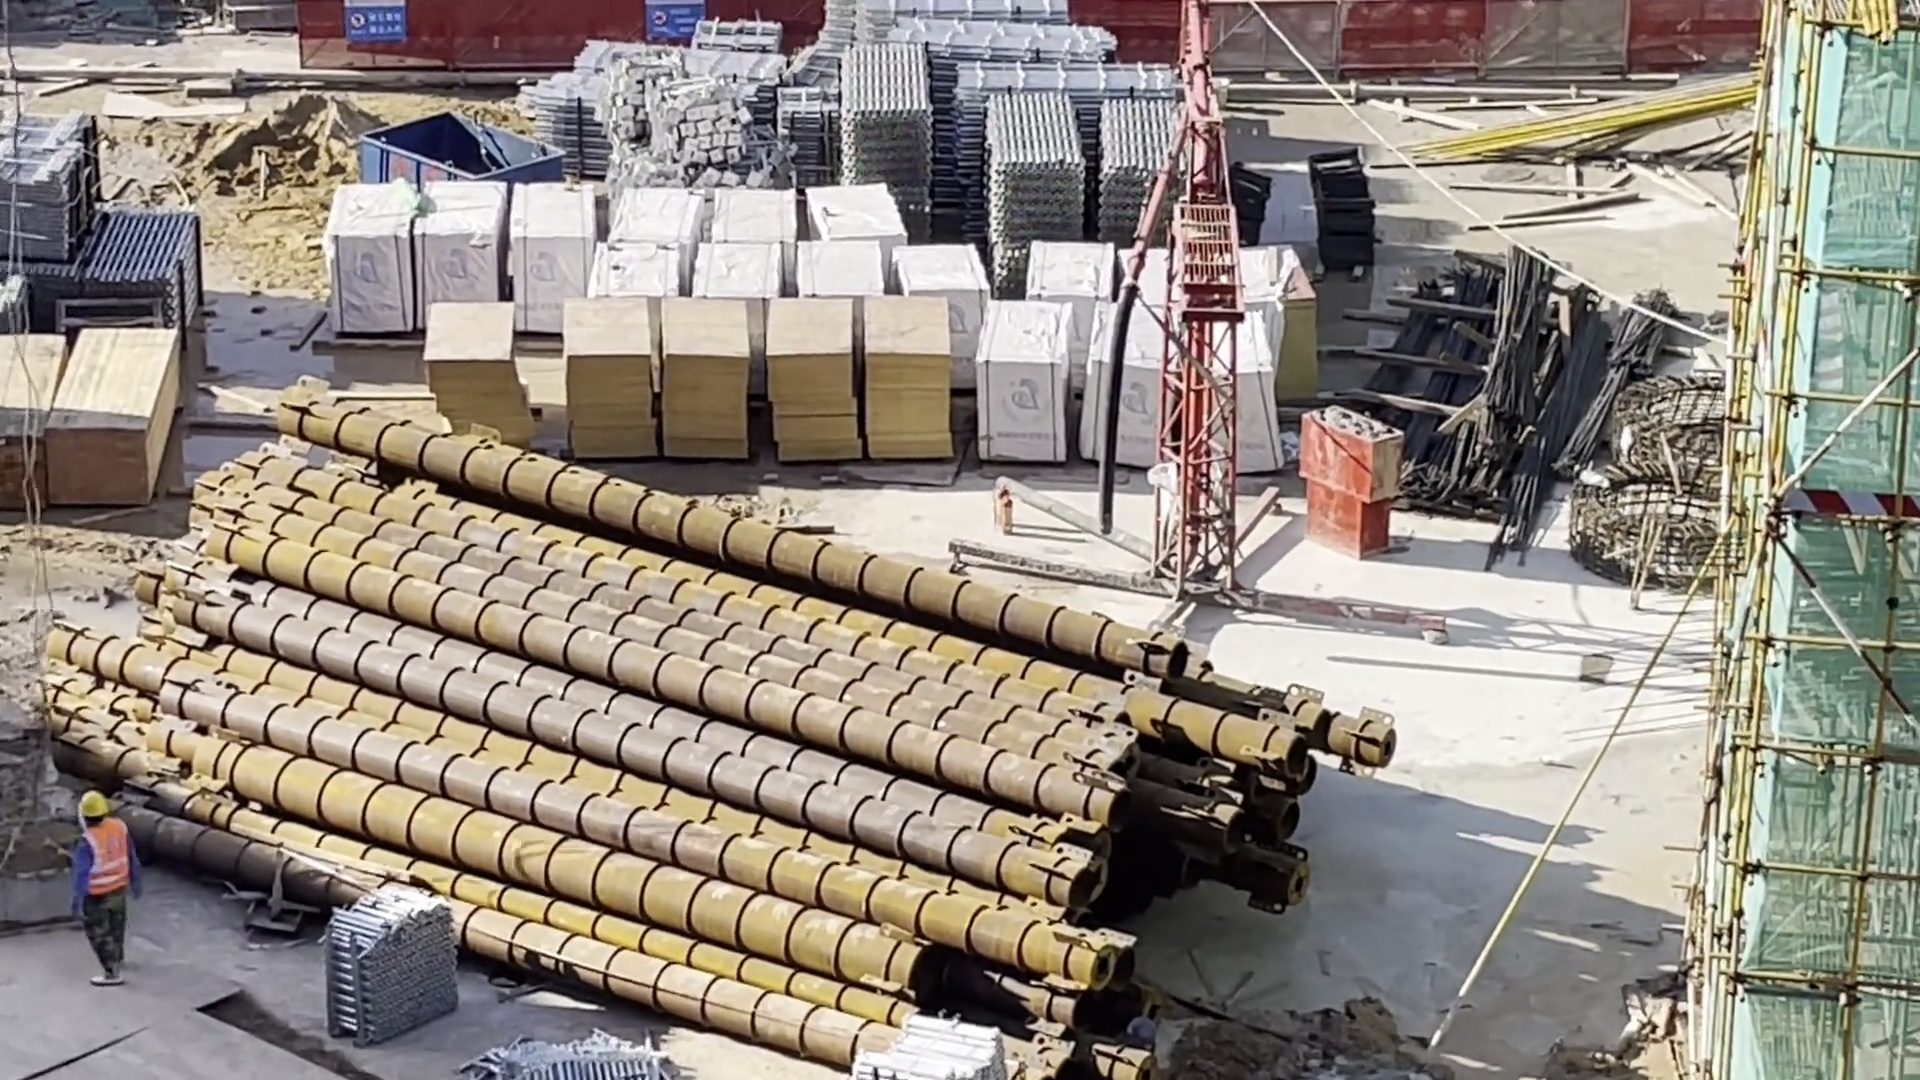board: (755, 276, 869, 475), (860, 263, 967, 472), (403, 291, 543, 449), (652, 276, 752, 480), (555, 293, 660, 467)
helmet: (71, 790, 112, 830)
hopper: (344, 93, 566, 190)
person: (64, 783, 156, 994)
scaffold: (299, 868, 481, 1050), (826, 31, 944, 227), (978, 95, 1087, 282), (80, 202, 209, 331), (844, 994, 1028, 1080), (1096, 90, 1188, 258)
slogan: (339, 1, 416, 46)
vest: (82, 811, 136, 898)
